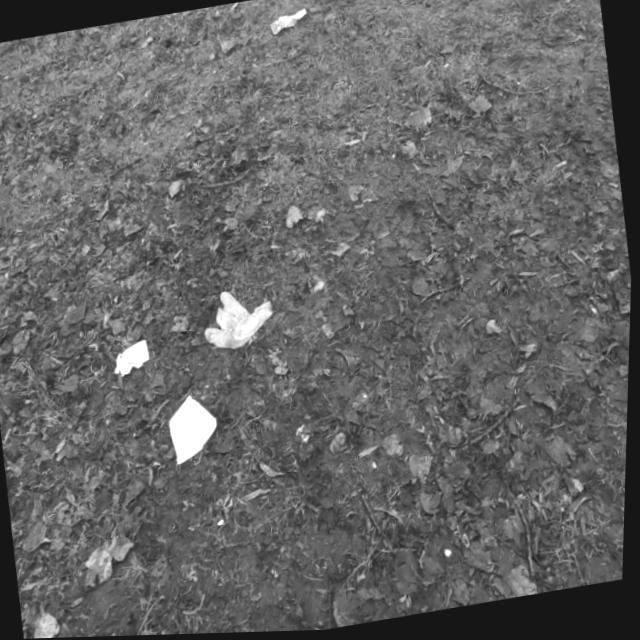Plastic: (265, 4, 311, 38)
